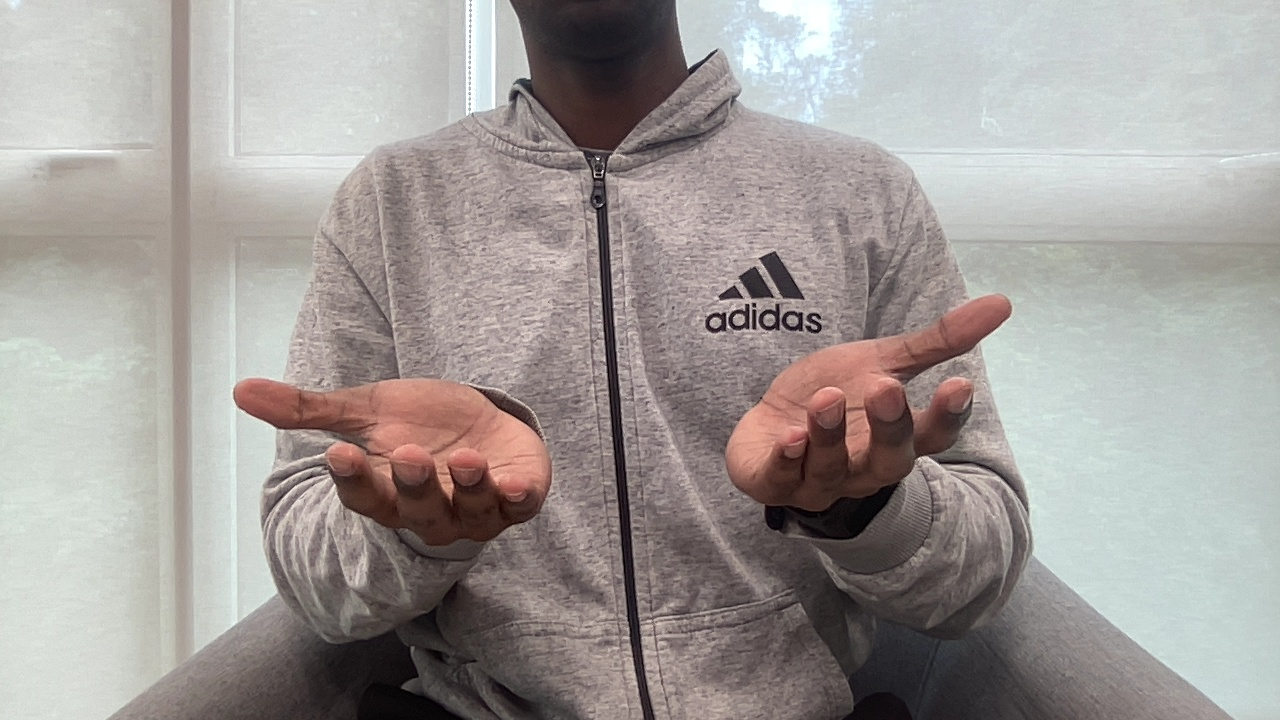give: (220, 290, 1019, 550)
